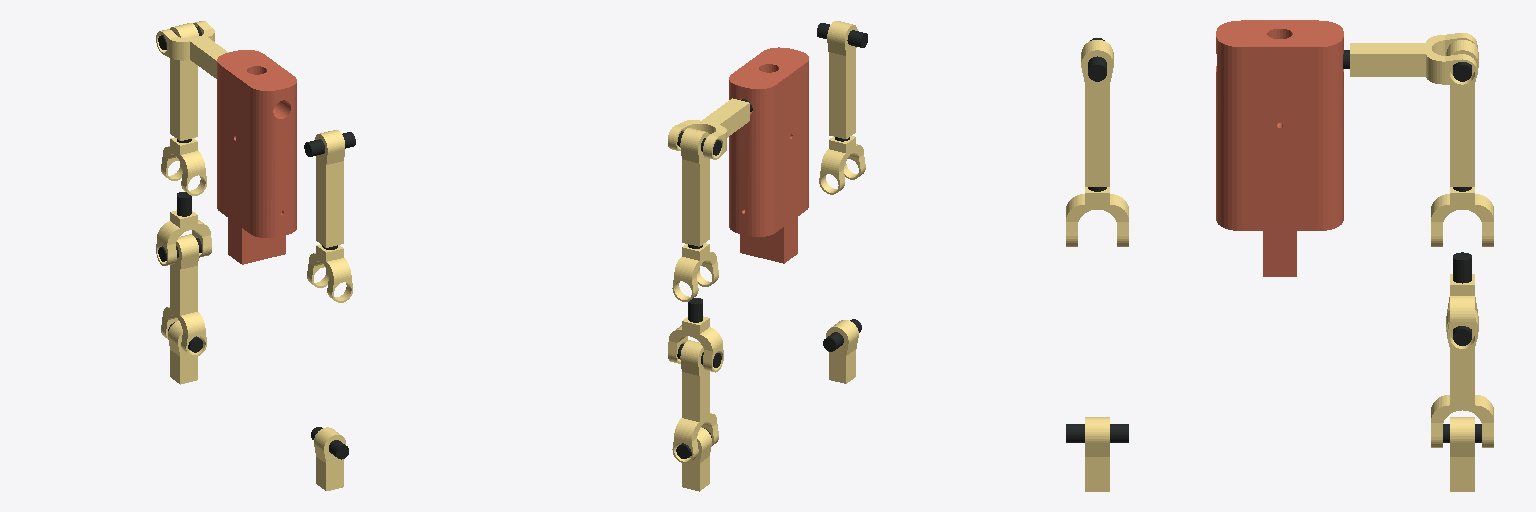
URDF robot description (humanoid6):
<?xml version='1.0' encoding='UTF-8'?>
<robot name="humanoid6">
  <link name="base_link">
    <inertial>
      <origin xyz="0.0249999269897118 -9.62933431329799e-10 0.0182059137038033" rpy="0.0 -0.0 0.0"/>
      <mass value="2.01794832946602"/>
      <inertia ixx="0.00639865582150861" ixy="-2.21144447010729e-09" ixz="-7.58696369412074e-09" iyy="0.00539489384464479" iyz="-1.60404482866338e-10" izz="0.00182161129792732"/>
    </inertial>
    <visual>
      <geometry>
        <mesh filename="package://humanoid6/meshes/base_link.dae"/>
      </geometry>
      <material name=""/>
      <origin xyz="0.025 0.0 0.0535044534957096" rpy="0.0 -0.0 3.14159265358979"/>
    </visual>
    <collision>
      <geometry>
        <mesh filename="package://humanoid6/meshes/base_link.dae"/>
      </geometry>
      <origin xyz="0.025 0.0 0.0535044534957096" rpy="0.0 -0.0 3.14159265358979"/>
    </collision>
  </link>
  <link name="rarm_link1">
    <inertial>
      <origin xyz="0.025 0.0948466872017927 0.0224123737314368" rpy="0.0 -0.0 0.0"/>
      <mass value="0.107513313367749"/>
      <inertia ixx="1.99058383172086e-05" ixy="6.48567990112525e-21" ixz="9.27987581122861e-21" iyy="1.58034735285127e-05" iyz="3.98047937455929e-23" izz="2.83363881319234e-05"/>
    </inertial>
    <visual>
      <geometry>
        <mesh filename="package://humanoid6/meshes/rarm_link1.dae"/>
      </geometry>
      <material name=""/>
      <origin xyz="0.025 0.035 0.0224123737314368" rpy="0.0 -0.0 3.14159265358979"/>
    </visual>
    <collision>
      <geometry>
        <mesh filename="package://humanoid6/meshes/rarm_link1.dae"/>
      </geometry>
      <origin xyz="0.025 0.035 0.0224123737314368" rpy="0.0 -0.0 3.14159265358979"/>
    </collision>
  </link>
  <link name="rarm_link2">
    <inertial>
      <origin xyz="0.0250000000000001 0.143610109953192 -0.0145761174871086" rpy="0.0 -0.0 0.0"/>
      <mass value="0.134223481770255"/>
      <inertia ixx="3.79701729364248e-05" ixy="2.97949261828277e-21" ixz="-2.60090703979867e-20" iyy="4.20469680208941e-05" iyz="5.31023897017839e-22" izz="1.34270270990965e-05"/>
    </inertial>
    <visual>
      <geometry>
        <mesh filename="package://humanoid6/meshes/rarm_link2.dae"/>
      </geometry>
      <material name=""/>
      <origin xyz="0.0250000000000001 0.143610109953192 0.0224123737314368" rpy="-1.18067923593607e-30 1.07613612616013e-15 3.14159265358979"/>
    </visual>
    <collision>
      <geometry>
        <mesh filename="package://humanoid6/meshes/rarm_link2.dae"/>
      </geometry>
      <origin xyz="0.0250000000000001 0.143610109953192 0.0224123737314368" rpy="-1.18067923593607e-30 1.07613612616013e-15 3.14159265358979"/>
    </collision>
  </link>
  <link name="rarm_link3">
    <inertial>
      <origin xyz="0.0250000000000001 0.143610109953192 0.0801292134268102" rpy="0.0 -0.0 0.0"/>
      <mass value="0.0539133133677492"/>
      <inertia ixx="1.53830547985901e-05" ixy="-4.55192190983354e-22" ixz="-4.44736711286236e-23" iyy="6.95250498387524e-06" iyz="-2.51017637345899e-22" izz="1.22301401951793e-05"/>
    </inertial>
    <visual>
      <geometry>
        <mesh filename="package://humanoid6/meshes/rarm_link3.dae"/>
      </geometry>
      <material name=""/>
      <origin xyz="0.0250000000000001 0.143610109953192 0.113520688497346" rpy="0.0 -0.0 3.14159265358979"/>
    </visual>
    <collision>
      <geometry>
        <mesh filename="package://humanoid6/meshes/rarm_link3.dae"/>
      </geometry>
      <origin xyz="0.0250000000000001 0.143610109953192 0.113520688497346" rpy="0.0 -0.0 3.14159265358979"/>
    </collision>
  </link>
  <link name="rarm_link4">
    <inertial>
      <origin xyz="0.0250000000000001 0.143610109953191 0.166304309262394" rpy="0.0 -0.0 0.0"/>
      <mass value="0.0591834817702553"/>
      <inertia ixx="8.90430135422743e-06" ixy="-3.77440105414803e-21" ixz="-9.82012820430286e-22" iyy="4.82750626975816e-06" iyz="1.0507854224065e-21" izz="8.42436043242986e-06"/>
    </inertial>
    <visual>
      <geometry>
        <mesh filename="package://humanoid6/meshes/rarm_link4.dae"/>
      </geometry>
      <material name=""/>
      <origin xyz="0.0250000000000001 0.143610109953191 0.172130798450539" rpy="-1.60982338570648e-15 1.06858966120171e-15 3.14159265358979"/>
    </visual>
    <collision>
      <geometry>
        <mesh filename="package://humanoid6/meshes/rarm_link4.dae"/>
      </geometry>
      <origin xyz="0.0250000000000001 0.143610109953191 0.172130798450539" rpy="-1.60982338570648e-15 1.06858966120171e-15 3.14159265358979"/>
    </collision>
  </link>
  <link name="rarm_link5">
    <inertial>
      <origin xyz="0.0250000000000001 0.143610109953192 0.159847638145912" rpy="0.0 -0.0 0.0"/>
      <mass value="0.0539133133677492"/>
      <inertia ixx="6.95250498387524e-06" ixy="8.39289845583379e-21" ixz="1.15019438373145e-20" iyy="1.53830547985901e-05" iyz="-6.85713906715062e-21" izz="1.22301401951793e-05"/>
    </inertial>
    <visual>
      <geometry>
        <mesh filename="package://humanoid6/meshes/rarm_link5.dae"/>
      </geometry>
      <material name=""/>
      <origin xyz="0.0250000000000001 0.143610109953192 0.193239113216448" rpy="-1.72084568816899e-15 1.07613612616012e-15 3.14159265358979"/>
    </visual>
    <collision>
      <geometry>
        <mesh filename="package://humanoid6/meshes/rarm_link5.dae"/>
      </geometry>
      <origin xyz="0.0250000000000001 0.143610109953192 0.193239113216448" rpy="-1.72084568816899e-15 1.07613612616012e-15 3.14159265358979"/>
    </collision>
  </link>
  <link name="rarm_link6">
    <inertial>
      <origin xyz="0.0250000000000001 0.143610109953192 0.215363806999679" rpy="0.0 -0.0 0.0"/>
      <mass value="0.13529454728605"/>
      <inertia ixx="3.02287448272062e-05" ixy="-2.75499733692317e-21" ixz="-8.70840324309133e-21" iyy="2.58749900969606e-05" iyz="-5.90194305458486e-21" izz="2.22317377083392e-05"/>
    </inertial>
    <visual>
      <geometry>
        <mesh filename="package://humanoid6/meshes/rarm_link6.dae"/>
      </geometry>
      <material name=""/>
      <origin xyz="0.0250000000000001 0.143610109953191 0.25184922316964" rpy="-1.82059228803766e-15 1.13797860024079e-15 3.14159265358979"/>
    </visual>
    <collision>
      <geometry>
        <mesh filename="package://humanoid6/meshes/rarm_link6.dae"/>
      </geometry>
      <origin xyz="0.0250000000000001 0.143610109953191 0.25184922316964" rpy="-1.82059228803766e-15 1.13797860024079e-15 3.14159265358979"/>
    </collision>
  </link>
  <link name="rarm_link7">
    <inertial>
      <origin xyz="0.0250000000000005 0.143610109953191 0.33311296148298" rpy="0.0 -0.0 0.0"/>
      <mass value="0.0801331357688743"/>
      <inertia ixx="1.14802020761367e-05" ixy="-3.68362016224928e-21" ixz="2.72262029374863e-22" iyy="7.40340699166748e-06" iyz="1.17438447236057e-22" izz="9.55332808604059e-06"/>
    </inertial>
    <visual>
      <geometry>
        <mesh filename="package://humanoid6/meshes/rarm_link7.dae"/>
      </geometry>
      <material name=""/>
      <origin xyz="0.0250000000000005 0.143610109953191 0.346567647888742" rpy="-1.93963768657657e-15 -0.0 3.14159265358979"/>
    </visual>
    <collision>
      <geometry>
        <mesh filename="package://humanoid6/meshes/rarm_link7.dae"/>
      </geometry>
      <origin xyz="0.0250000000000005 0.143610109953191 0.346567647888742" rpy="-1.93963768657657e-15 -0.0 3.14159265358979"/>
    </collision>
  </link>
  <link name="larm_link1">
    <inertial>
      <origin xyz="0.025 -0.0948466872017927 0.0224123737314368" rpy="0.0 -0.0 0.0"/>
      <mass value="0.107513313367749"/>
      <inertia ixx="1.99058383172086e-05" ixy="1.08946282427748e-20" ixz="-1.11709168245928e-20" iyy="1.58034735285127e-05" iyz="-2.74694041121597e-21" izz="2.83363881319234e-05"/>
    </inertial>
    <visual>
      <geometry>
        <mesh filename="package://humanoid6/meshes/larm_link1.dae"/>
      </geometry>
      <material name=""/>
      <origin xyz="0.025 -0.035 0.0224123737314368" rpy="0.0 -0.0 3.14159265358979"/>
    </visual>
    <collision>
      <geometry>
        <mesh filename="package://humanoid6/meshes/larm_link1.dae"/>
      </geometry>
      <origin xyz="0.025 -0.035 0.0224123737314368" rpy="0.0 -0.0 3.14159265358979"/>
    </collision>
  </link>
  <link name="larm_link2">
    <inertial>
      <origin xyz="0.0249999999999998 -0.143610109953192 -0.0145761174871086" rpy="0.0 -0.0 0.0"/>
      <mass value="0.134223481770255"/>
      <inertia ixx="3.79701729364248e-05" ixy="7.81878299057904e-21" ixz="2.1535080635762e-20" iyy="4.20469680208941e-05" iyz="2.3513167496537e-21" izz="1.34270270990965e-05"/>
    </inertial>
    <visual>
      <geometry>
        <mesh filename="package://humanoid6/meshes/larm_link2.dae"/>
      </geometry>
      <material name=""/>
      <origin xyz="0.0249999999999999 -0.143610109953192 0.0224123737314368" rpy="1.78676518025613e-16 -1.17362996168451e-15 3.14159265358979"/>
    </visual>
    <collision>
      <geometry>
        <mesh filename="package://humanoid6/meshes/larm_link2.dae"/>
      </geometry>
      <origin xyz="0.0249999999999999 -0.143610109953192 0.0224123737314368" rpy="1.78676518025613e-16 -1.17362996168451e-15 3.14159265358979"/>
    </collision>
  </link>
  <link name="larm_link3">
    <inertial>
      <origin xyz="0.0249999999999999 -0.143610109953192 0.0801292134268102" rpy="0.0 -0.0 0.0"/>
      <mass value="0.0539133133677491"/>
      <inertia ixx="1.53830547985901e-05" ixy="7.5444895431979e-22" ixz="-4.88842898421727e-23" iyy="6.95250498387523e-06" iyz="-8.18950246685588e-22" izz="1.22301401951793e-05"/>
    </inertial>
    <visual>
      <geometry>
        <mesh filename="package://humanoid6/meshes/larm_link3.dae"/>
      </geometry>
      <material name=""/>
      <origin xyz="0.0249999999999999 -0.143610109953192 0.113520688497347" rpy="0.0 -0.0 3.14159265358979"/>
    </visual>
    <collision>
      <geometry>
        <mesh filename="package://humanoid6/meshes/larm_link3.dae"/>
      </geometry>
      <origin xyz="0.0249999999999999 -0.143610109953192 0.113520688497347" rpy="0.0 -0.0 3.14159265358979"/>
    </collision>
  </link>
  <link name="larm_link4">
    <inertial>
      <origin xyz="0.0249999999999997 -0.143610109953192 0.166304309262393" rpy="0.0 -0.0 0.0"/>
      <mass value="0.0591834817702552"/>
      <inertia ixx="8.90430135422741e-06" ixy="-3.32452509537704e-21" ixz="7.77116709182853e-23" iyy="4.82750626975815e-06" iyz="-1.65486710471938e-21" izz="8.42436043242985e-06"/>
    </inertial>
    <visual>
      <geometry>
        <mesh filename="package://humanoid6/meshes/larm_link4.dae"/>
      </geometry>
      <material name=""/>
      <origin xyz="0.0249999999999998 -0.143610109953192 0.172130798450538" rpy="-1.27675647831893e-15 -1.5265566588596e-16 3.14159265358979"/>
    </visual>
    <collision>
      <geometry>
        <mesh filename="package://humanoid6/meshes/larm_link4.dae"/>
      </geometry>
      <origin xyz="0.0249999999999998 -0.143610109953192 0.172130798450538" rpy="-1.27675647831893e-15 -1.5265566588596e-16 3.14159265358979"/>
    </collision>
  </link>
  <link name="larm_link5">
    <inertial>
      <origin xyz="0.0249999999999998 -0.143610109953192 0.159847638145911" rpy="0.0 -0.0 0.0"/>
      <mass value="0.0539133133677491"/>
      <inertia ixx="6.95250498387523e-06" ixy="7.02793680543115e-21" ixz="8.43198353697651e-22" iyy="1.53830547985901e-05" iyz="-3.17025566137915e-21" izz="1.22301401951793e-05"/>
    </inertial>
    <visual>
      <geometry>
        <mesh filename="package://humanoid6/meshes/larm_link5.dae"/>
      </geometry>
      <material name=""/>
      <origin xyz="0.0249999999999998 -0.143610109953192 0.193239113216448" rpy="-1.4819334766439e-15 -1.52655665885961e-16 3.14159265358979"/>
    </visual>
    <collision>
      <geometry>
        <mesh filename="package://humanoid6/meshes/larm_link5.dae"/>
      </geometry>
      <origin xyz="0.0249999999999998 -0.143610109953192 0.193239113216448" rpy="-1.4819334766439e-15 -1.52655665885961e-16 3.14159265358979"/>
    </collision>
  </link>
  <link name="larm_link6">
    <inertial>
      <origin xyz="0.0249999999999998 -0.143610109953192 0.215363806999678" rpy="0.0 -0.0 0.0"/>
      <mass value="0.13529454728605"/>
      <inertia ixx="3.02287448272062e-05" ixy="-5.67561609588916e-21" ixz="1.30204050324843e-21" iyy="2.58749900969606e-05" iyz="-5.90929867247353e-21" izz="2.22317377083392e-05"/>
    </inertial>
    <visual>
      <geometry>
        <mesh filename="package://humanoid6/meshes/larm_link6.dae"/>
      </geometry>
      <material name=""/>
      <origin xyz="0.0249999999999997 -0.143610109953192 0.25184922316964" rpy="-1.49186218934005e-15 2.1017707942083e-17 3.14159265358979"/>
    </visual>
    <collision>
      <geometry>
        <mesh filename="package://humanoid6/meshes/larm_link6.dae"/>
      </geometry>
      <origin xyz="0.0249999999999997 -0.143610109953192 0.25184922316964" rpy="-1.49186218934005e-15 2.1017707942083e-17 3.14159265358979"/>
    </collision>
  </link>
  <link name="larm_link7">
    <inertial>
      <origin xyz="0.0249999999999999 -0.143610109953191 0.333112961482979" rpy="0.0 -0.0 0.0"/>
      <mass value="0.0801331357688743"/>
      <inertia ixx="1.14802020761367e-05" ixy="-3.38692523426138e-21" ixz="1.1612400666387e-21" iyy="7.40340699166748e-06" iyz="2.63974948663703e-21" izz="9.5533280860406e-06"/>
    </inertial>
    <visual>
      <geometry>
        <mesh filename="package://humanoid6/meshes/larm_link7.dae"/>
      </geometry>
      <material name=""/>
      <origin xyz="0.0249999999999999 -0.143610109953192 0.346567647888741" rpy="0.0 -0.0 3.14159265358979"/>
    </visual>
    <collision>
      <geometry>
        <mesh filename="package://humanoid6/meshes/larm_link7.dae"/>
      </geometry>
      <origin xyz="0.0249999999999999 -0.143610109953192 0.346567647888741" rpy="0.0 -0.0 3.14159265358979"/>
    </collision>
  </link>
  <joint name="rarm_shoulder_p" type="continuous">
    <parent link="base_link"/>
    <child link="rarm_link1"/>
    <axis xyz="0. 1. 0."/>
    <origin xyz="0.0 -0.035 0.0310920797642728" rpy="0.0 -0.0 0.0"/>
  </joint>
  <joint name="rarm_shoulder_r" type="continuous">
    <parent link="rarm_link1"/>
    <child link="rarm_link2"/>
    <axis xyz="1. 0. 0."/>
    <origin xyz="0.0 -0.108610109953192 0.0" rpy="0.0 -0.0 0.0"/>
  </joint>
  <joint name="rarm_shoulder_y" type="continuous">
    <parent link="rarm_link2"/>
    <child link="rarm_link3"/>
    <axis xyz="0. 0. 1."/>
    <origin xyz="0.0 0.0 -0.0911083147659097" rpy="0.0 -0.0 0.0"/>
  </joint>
  <joint name="rarm_elbow_p" type="continuous">
    <parent link="rarm_link3"/>
    <child link="rarm_link4"/>
    <axis xyz="0. 1. 0."/>
    <origin xyz="0.0 0.0 -0.0586101099531919" rpy="0.0 -0.0 0.0"/>
  </joint>
  <joint name="rarm_elbow_y" type="continuous">
    <parent link="rarm_link4"/>
    <child link="rarm_link5"/>
    <axis xyz="0. 0. 1."/>
    <origin xyz="0.0 0.0 -0.0211083147659097" rpy="0.0 -0.0 0.0"/>
  </joint>
  <joint name="rarm_elbow_r" type="continuous">
    <parent link="rarm_link5"/>
    <child link="rarm_link6"/>
    <axis xyz="1. 0. 0."/>
    <origin xyz="0.0 0.0 -0.0586101099531918" rpy="0.0 -0.0 0.0"/>
  </joint>
  <joint name="rarm_wrist_p" type="continuous">
    <parent link="rarm_link6"/>
    <child link="rarm_link7"/>
    <axis xyz=" 0. -1.  0."/>
    <origin xyz="0.0 0.0 -0.0947184247191015" rpy="0.0 -0.0 0.0"/>
  </joint>
  <joint name="larm_shoulder_p" type="continuous">
    <parent link="base_link"/>
    <child link="larm_link1"/>
    <axis xyz=" 0. -1.  0."/>
    <origin xyz="0.0 0.035 0.0310920797642728" rpy="0.0 -0.0 0.0"/>
  </joint>
  <joint name="larm_shoulder_r" type="continuous">
    <parent link="larm_link1"/>
    <child link="larm_link2"/>
    <axis xyz="1. 0. 0."/>
    <origin xyz="0.0 0.108610109953192 0.0" rpy="0.0 -0.0 0.0"/>
  </joint>
  <joint name="larm_shoulder_y" type="continuous">
    <parent link="larm_link2"/>
    <child link="larm_link3"/>
    <axis xyz="0. 0. 1."/>
    <origin xyz="0.0 0.0 -0.0911083147659097" rpy="0.0 -0.0 0.0"/>
  </joint>
  <joint name="larm_elbow_p" type="continuous">
    <parent link="larm_link3"/>
    <child link="larm_link4"/>
    <axis xyz=" 0. -1.  0."/>
    <origin xyz="0.0 0.0 -0.0586101099531918" rpy="0.0 -0.0 0.0"/>
  </joint>
  <joint name="larm_elbow_y" type="continuous">
    <parent link="larm_link4"/>
    <child link="larm_link5"/>
    <axis xyz="0. 0. 1."/>
    <origin xyz="0.0 0.0 -0.0211083147659097" rpy="0.0 -0.0 0.0"/>
  </joint>
  <joint name="larm_elbow_r" type="continuous">
    <parent link="larm_link5"/>
    <child link="larm_link6"/>
    <axis xyz="1. 0. 0."/>
    <origin xyz="0.0 0.0 -0.0586101099531919" rpy="0.0 -0.0 0.0"/>
  </joint>
  <joint name="larm_wrist_p" type="continuous">
    <parent link="larm_link6"/>
    <child link="larm_link7"/>
    <axis xyz=" 0. -1.  0."/>
    <origin xyz="0.0 0.0 -0.0947184247191012" rpy="0.0 -0.0 0.0"/>
  </joint>
  <material name="">
    <color rgba="0.5372549  0.34901961 0.3372549  1.        "/>
  </material>
</robot>

--- Facts derived from the render (not from the file) ---
3 views of the same robot in one strip: view 1: azimuth 30°, elevation 25°; view 2: azimuth 150°, elevation 25°; view 3: azimuth 270°, elevation 25° (orthographic).
Robot: humanoid6 — 15 links, 14 joints (14 continuous); root link base_link; default pose: every joint at zero.
Visible links, largest first — view 1: base_link, rarm_link2, larm_link6, larm_link2, larm_link5, larm_link1, rarm_link7, larm_link3, rarm_link3, larm_link7; view 2: base_link, rarm_link2, larm_link6, larm_link2, larm_link1, larm_link5, rarm_link7, rarm_link3, larm_link3, larm_link7; view 3: base_link, larm_link1, rarm_link2, larm_link6, larm_link2, rarm_link7, larm_link7, larm_link5, rarm_link3, larm_link3.
Link boxes in pixels (box(x1,y1,x2,y2)): base_link: box(217, 50, 296, 264); rarm_link2: box(304, 130, 355, 247); larm_link6: box(158, 234, 206, 356); larm_link2: box(158, 23, 201, 140); larm_link5: box(156, 192, 211, 265); larm_link1: box(156, 21, 228, 78); rarm_link7: box(311, 427, 348, 490); larm_link3: box(161, 137, 206, 195); rarm_link3: box(307, 244, 352, 302); larm_link7: box(168, 321, 202, 384); base_link: box(729, 47, 808, 263); rarm_link2: box(817, 21, 867, 138); larm_link6: box(672, 340, 721, 463); larm_link2: box(677, 128, 721, 246); larm_link1: box(668, 98, 752, 159); larm_link5: box(668, 298, 723, 372); rarm_link7: box(823, 319, 861, 383); rarm_link3: box(819, 136, 865, 194); larm_link3: box(672, 243, 718, 301); larm_link7: box(676, 427, 711, 491); base_link: box(1216, 20, 1343, 276); larm_link1: box(1343, 33, 1477, 86); rarm_link2: box(1081, 38, 1113, 186); larm_link6: box(1431, 310, 1493, 447); larm_link2: box(1446, 40, 1478, 186); rarm_link7: box(1066, 417, 1128, 491); larm_link7: box(1443, 417, 1481, 491); larm_link5: box(1447, 252, 1477, 350); rarm_link3: box(1066, 187, 1128, 246); larm_link3: box(1431, 187, 1493, 246).
Size in the robot's own frame: 0.05 by 0.3372 by 0.3927 metres.
Meshes: 15 distinct files referenced, 10 mesh visuals loaded (10 Collada DAE); not drawn: 5 (reference not matched to a file when rendering).